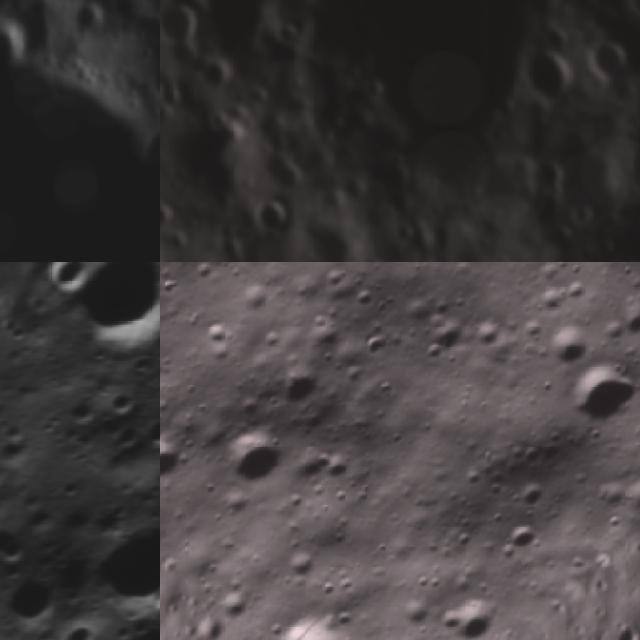crater: (55, 262, 160, 369), (77, 500, 160, 629), (551, 341, 640, 455), (209, 413, 296, 501), (528, 306, 606, 384), (0, 562, 71, 640), (256, 359, 329, 431), (428, 579, 514, 640), (260, 602, 386, 640), (518, 42, 584, 104), (297, 217, 361, 262), (586, 34, 638, 88), (255, 146, 307, 200), (160, 431, 195, 505), (104, 597, 160, 640), (160, 0, 204, 51), (97, 374, 143, 420), (0, 514, 37, 569), (192, 53, 238, 96), (59, 388, 102, 431), (250, 196, 290, 241), (55, 609, 111, 640), (133, 398, 160, 461), (0, 23, 29, 68), (271, 18, 307, 52), (164, 226, 198, 262), (76, 5, 104, 32), (147, 129, 160, 187), (160, 199, 174, 233), (624, 0, 640, 22)
